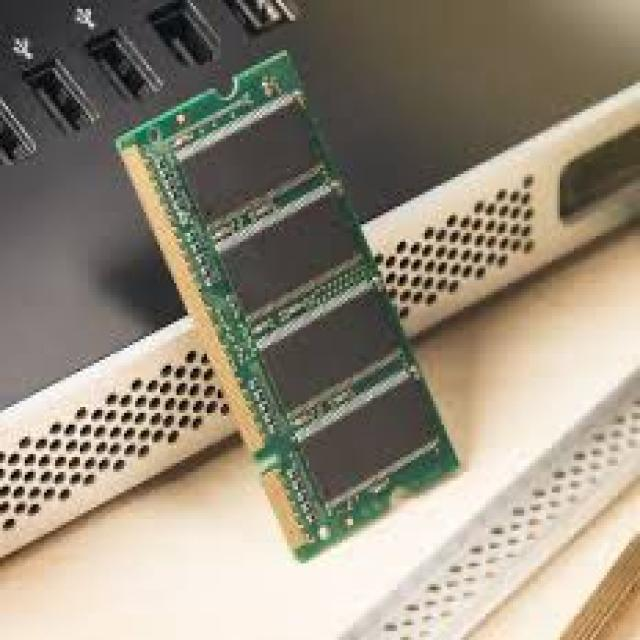Ram: (20, 31, 562, 591)
